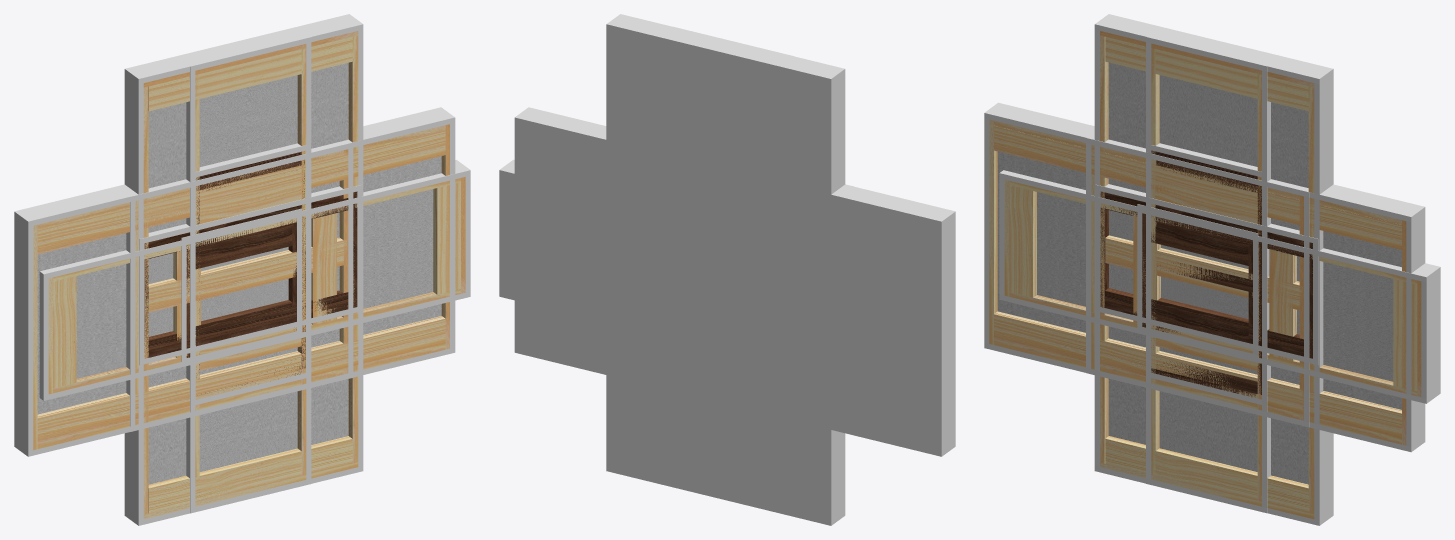
File: Panels-web.glb
3 renders of one model, left to right at view 1: azimuth 30°, elevation 25°; view 2: azimuth 150°, elevation 25°; view 3: azimuth 330°, elevation 25°, orthographic.
Parts seen in each view (by area): view 1: 4x2V Fiberglass Sheet, 4x2H Back Support, 4x2H Fiberglass Sheet, 1x4V Fiberglass Sheet, 4x2H Acoustic Fabric Full Fold, 4x2V Back Support, 4x2V Acoustic Fabric Full Fold, 1x4V Back Support, 1x4H Fiberglass Sheet, 1x4H Back Support, 1x4V Acoustic Fabric Full Fold, 1x4H Acoustic Fabric Full Fold (+20 smaller); view 2: 4x2V Acoustic Fabric Full Fold, 4x2H Acoustic Fabric Full Fold, 1x4V Acoustic Fabric Full Fold, 1x4H Acoustic Fabric Full Fold, 2x2 Acoustic Fabric Full Fold, 2x1V Acoustic Fabric Full Fold, 2x1H Acoustic Fabric Full Fold, 1x1 Acoustic Fabric Full Fold, 4x2V Acoustic Fabric Half Fold, 4x2H Acoustic Fabric Half Fold; view 3: 1x4V Fiberglass Sheet, 4x2H Back Support, 4x2H Fiberglass Sheet, 4x2V Acoustic Fabric Full Fold, 4x2V Fiberglass Sheet, 1x4V Back Support, 4x2H Acoustic Fabric Full Fold, 4x2V Back Support, 1x4H Acoustic Fabric Full Fold, 1x4H Back Support, 1x4H Fiberglass Sheet, 1x4V Acoustic Fabric Full Fold (+21 smaller).
Boxes of the visible parts, x1,y1,x2,y2 form: 4x2V Fiberglass Sheet: [148, 62, 348, 484]; 4x2H Back Support: [37, 130, 445, 442]; 4x2H Fiberglass Sheet: [37, 156, 441, 414]; 1x4V Fiberglass Sheet: [199, 75, 297, 471]; 4x2H Acoustic Fabric Full Fold: [14, 107, 455, 456]; 4x2V Back Support: [148, 37, 352, 513]; 4x2V Acoustic Fabric Full Fold: [124, 14, 363, 525]; 1x4V Back Support: [199, 49, 301, 498]; 1x4H Fiberglass Sheet: [205, 189, 433, 318]; 1x4H Back Support: [53, 182, 460, 388]; 1x4V Acoustic Fabric Full Fold: [176, 37, 311, 513]; 1x4H Acoustic Fabric Full Fold: [39, 160, 470, 400]; 4x2V Acoustic Fabric Full Fold: [606, 14, 845, 525]; 4x2H Acoustic Fabric Full Fold: [514, 107, 955, 456]; 1x4V Acoustic Fabric Full Fold: [658, 26, 793, 512]; 1x4H Acoustic Fabric Full Fold: [499, 159, 926, 400]; 2x2 Acoustic Fabric Full Fold: [616, 150, 852, 428]; 2x1V Acoustic Fabric Full Fold: [659, 144, 751, 397]; 2x1H Acoustic Fabric Full Fold: [655, 214, 830, 364]; 1x1 Acoustic Fabric Full Fold: [668, 222, 788, 344]; 4x2V Acoustic Fabric Half Fold: [607, 18, 839, 494]; 4x2H Acoustic Fabric Half Fold: [516, 111, 950, 449]; 1x4V Fiberglass Sheet: [1159, 75, 1257, 471]; 4x2H Back Support: [994, 125, 1401, 438]; 4x2H Fiberglass Sheet: [997, 151, 1401, 409]; 4x2V Acoustic Fabric Full Fold: [1094, 14, 1333, 525]; 4x2V Fiberglass Sheet: [1108, 62, 1308, 484]; 1x4V Back Support: [1155, 49, 1257, 500]; 4x2H Acoustic Fabric Full Fold: [984, 102, 1425, 452]; 4x2V Back Support: [1105, 37, 1309, 513]; 1x4H Acoustic Fabric Full Fold: [999, 170, 1440, 403]; 1x4H Back Support: [1009, 185, 1417, 391]; 1x4H Fiberglass Sheet: [1185, 256, 1393, 381]; 1x4V Acoustic Fabric Full Fold: [1146, 26, 1270, 513].
Bounding box in the file's own units: 1.3 × 1.26 × 0.0723.
6 materials, 4 textured.
